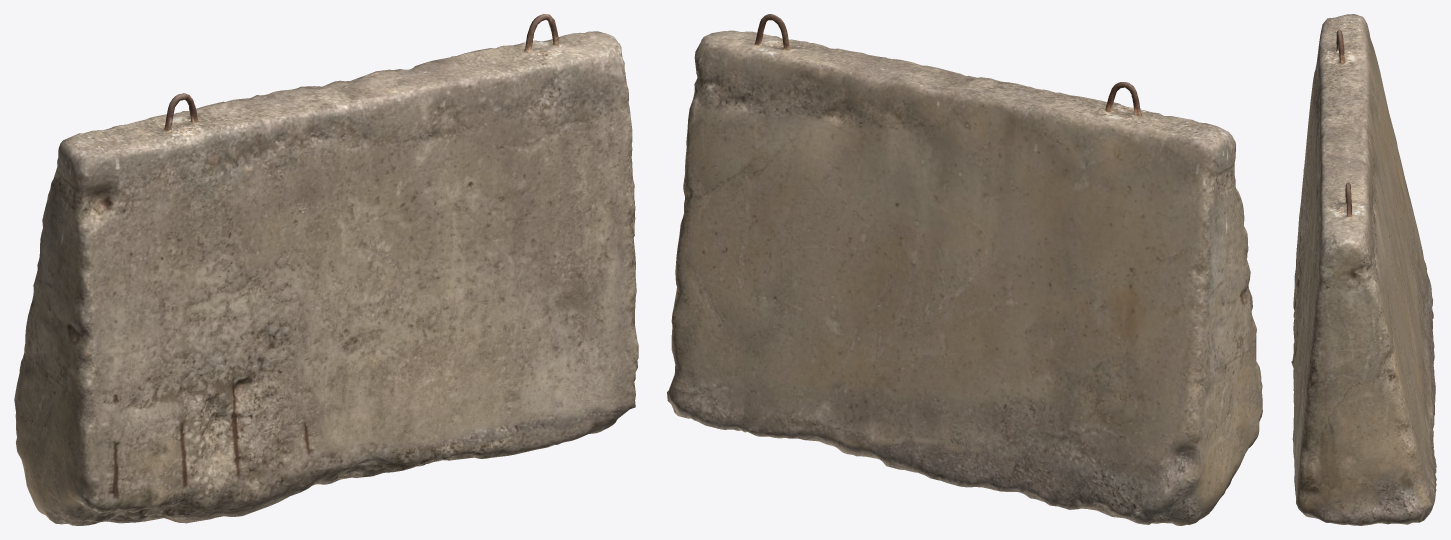
Rendered from barrier.glb.
3 renders of one model, left to right at view 1: azimuth 30°, elevation 25°; view 2: azimuth 150°, elevation 25°; view 3: azimuth 270°, elevation 25°, orthographic. The views are drawn at different scales.
Parts seen in each view (by area): view 1: concrete_road_barrier_02; view 2: concrete_road_barrier_02; view 3: concrete_road_barrier_02.
Boxes of the visible parts, left/top/right/bottom form: concrete_road_barrier_02: left=14, top=14, right=638, bottom=525; concrete_road_barrier_02: left=667, top=14, right=1262, bottom=525; concrete_road_barrier_02: left=1291, top=14, right=1436, bottom=525.
Size of the model in its own units: 1.57 by 1.11 by 0.4421.
Materials: 1 (1 with a texture image).
